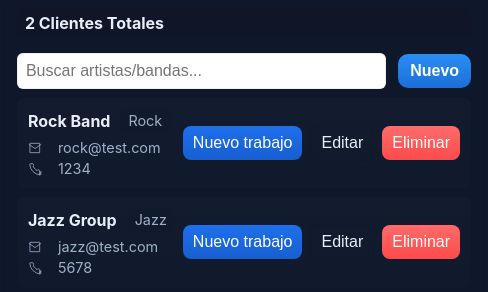
ClientsList › filters clients by search text
Expected: the text "Rock Band" is shown, x1=28 y1=110 x2=110 y2=130
Type "jazz" into the field with placeholder "Buscar artistas/bandas..." at [202, 71], box x1=17 y1=53 x2=386 y2=89
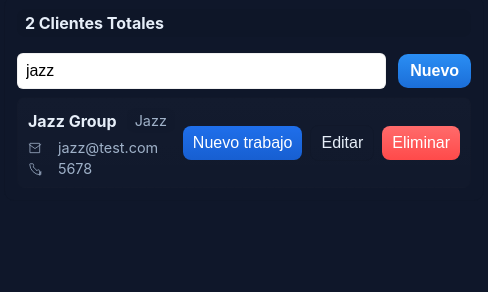
Expected: the text "Jazz Group" is shown, x1=28 y1=110 x2=117 y2=130
Now the text "Rock Band" is gone
